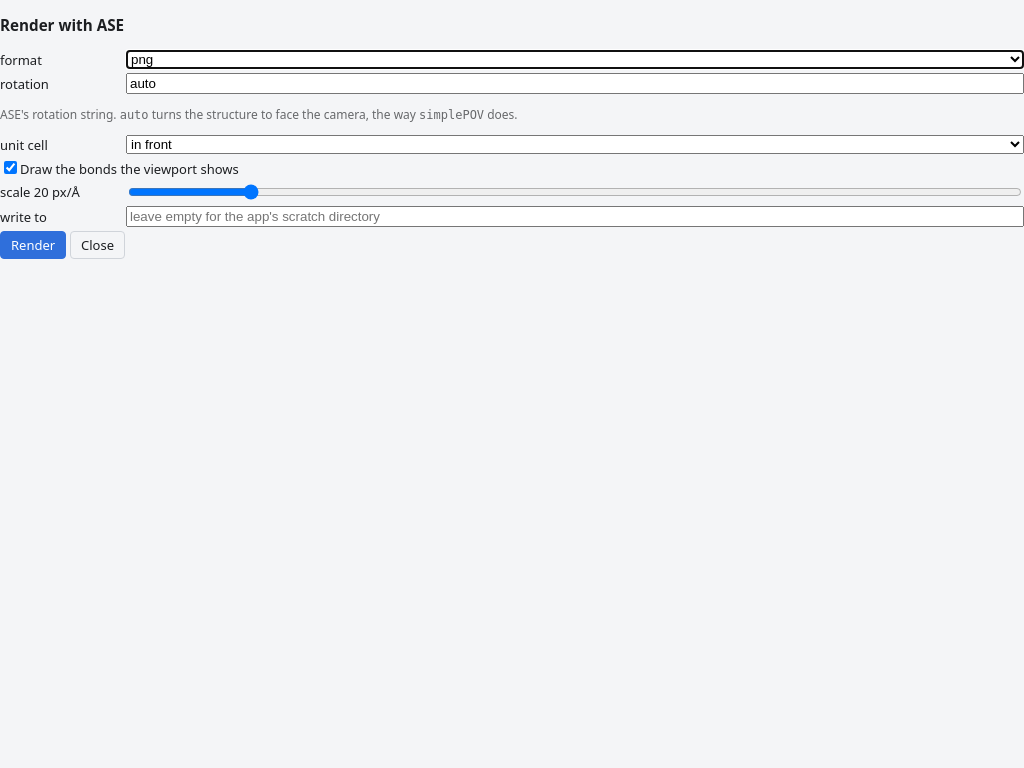
it: ExportAseImageDialog › reports what was written, and why it was not rendered
Click the button "Render".
click(33, 245)  # box [0,231,66,259]
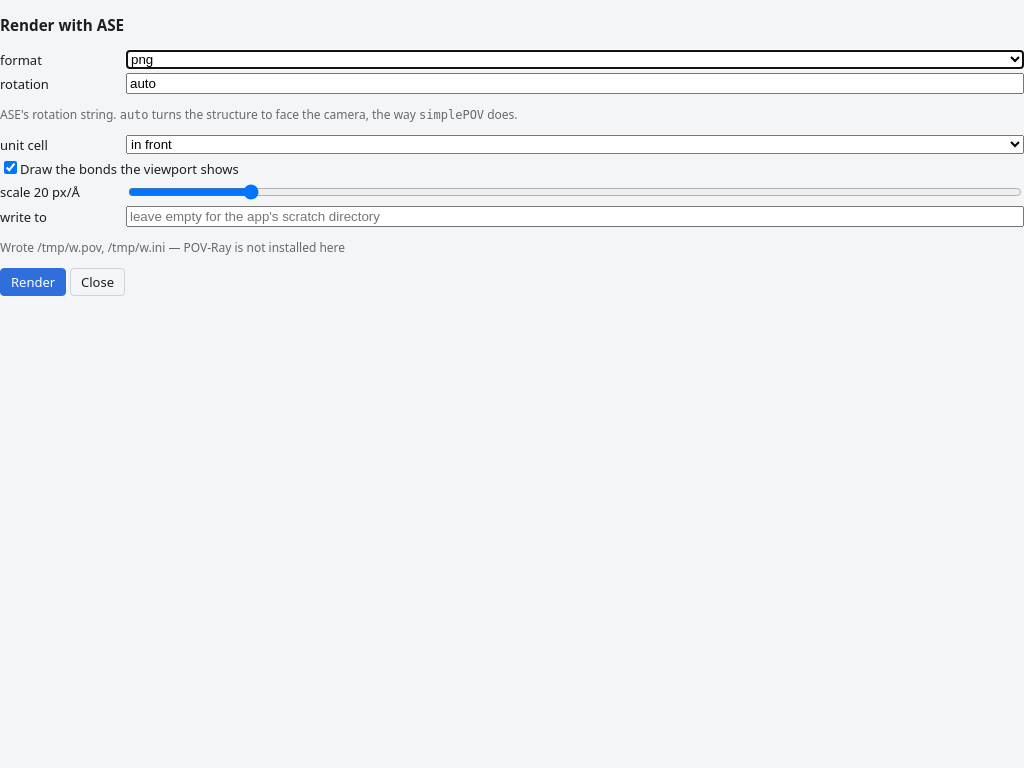
Check: the text "Wrote /tmp/w.pov, /tmp/w.ini — POV-Ray is not installed here" is shown, box [0,239,345,256]
